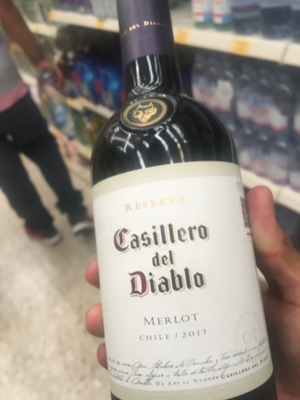casillero del diablo merlot: (87, 10, 277, 400)
